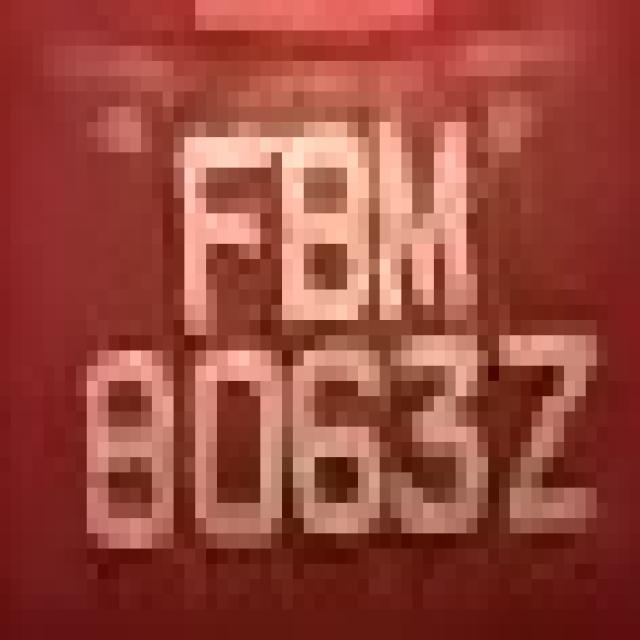0: (173, 320, 293, 549)
3: (380, 351, 488, 548)
6: (282, 351, 401, 548)
8: (54, 290, 184, 594)
B: (249, 92, 358, 350)
F: (152, 92, 260, 350)
M: (358, 107, 488, 350)
Y: (488, 274, 618, 564)
